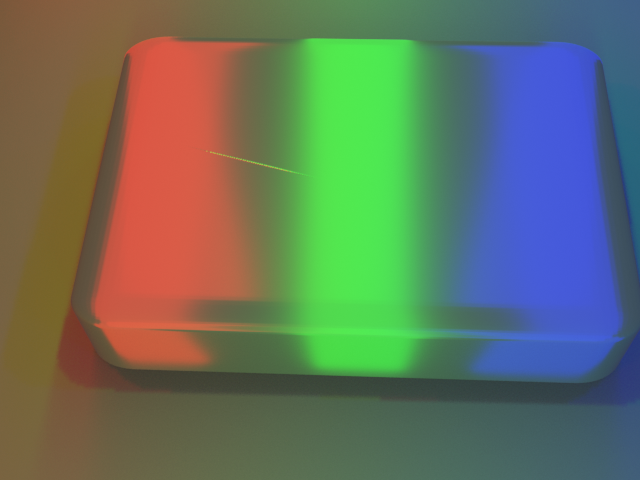scratch: (74, 46, 439, 272)
